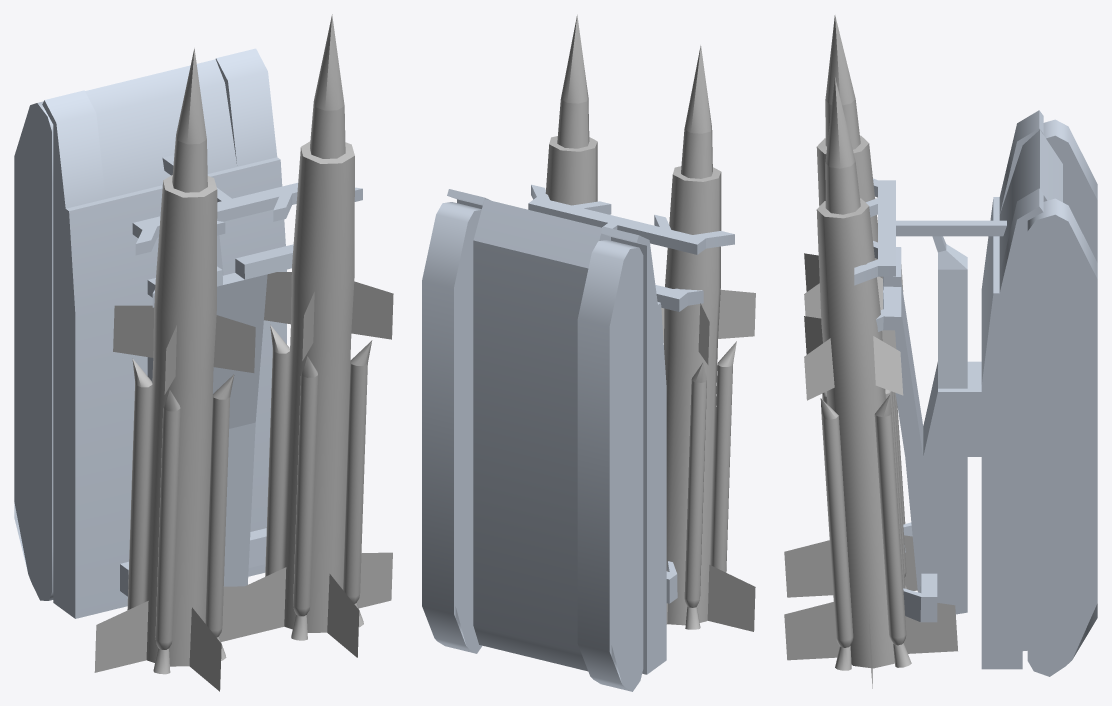
3 renders of one model, left to right at view 1: azimuth 30°, elevation 25°; view 2: azimuth 150°, elevation 25°; view 3: azimuth 270°, elevation 25°, orthographic. The views are drawn at different scales.
Visible parts, largest first — view 1: db_sam4_lv1_LOD child0_sa4m_pl1_Geometry_0.001, db_sam4_lv1_LOD child0_missle_p14230_Geometry_0.001, db_sam4_lv1_LOD child0_missle_p14294_Geometry_0.001; view 2: db_sam4_lv1_LOD child0_sa4m_pl1_Geometry_0.001, db_sam4_lv1_LOD child0_missle_p14230_Geometry_0.001, db_sam4_lv1_LOD child0_missle_p14294_Geometry_0.001; view 3: db_sam4_lv1_LOD child0_sa4m_pl1_Geometry_0.001, db_sam4_lv1_LOD child0_missle_p14230_Geometry_0.001, db_sam4_lv1_LOD child0_missle_p14294_Geometry_0.001.
Boxes of the visible parts, left/top/right/bottom form: db_sam4_lv1_LOD child0_sa4m_pl1_Geometry_0.001: left=14, top=48, right=362, bottom=618; db_sam4_lv1_LOD child0_missle_p14230_Geometry_0.001: left=127, top=14, right=372, bottom=674; db_sam4_lv1_LOD child0_missle_p14294_Geometry_0.001: left=94, top=272, right=393, bottom=691; db_sam4_lv1_LOD child0_sa4m_pl1_Geometry_0.001: left=422, top=184, right=734, bottom=691; db_sam4_lv1_LOD child0_missle_p14230_Geometry_0.001: left=545, top=15, right=736, bottom=629; db_sam4_lv1_LOD child0_missle_p14294_Geometry_0.001: left=661, top=289, right=755, bottom=631; db_sam4_lv1_LOD child0_sa4m_pl1_Geometry_0.001: left=854, top=110, right=1097, bottom=676; db_sam4_lv1_LOD child0_missle_p14230_Geometry_0.001: left=816, top=15, right=911, bottom=670; db_sam4_lv1_LOD child0_missle_p14294_Geometry_0.001: left=784, top=253, right=957, bottom=688.
Bounding box in the file's own units: 4.6 × 9.3 × 4.51.
